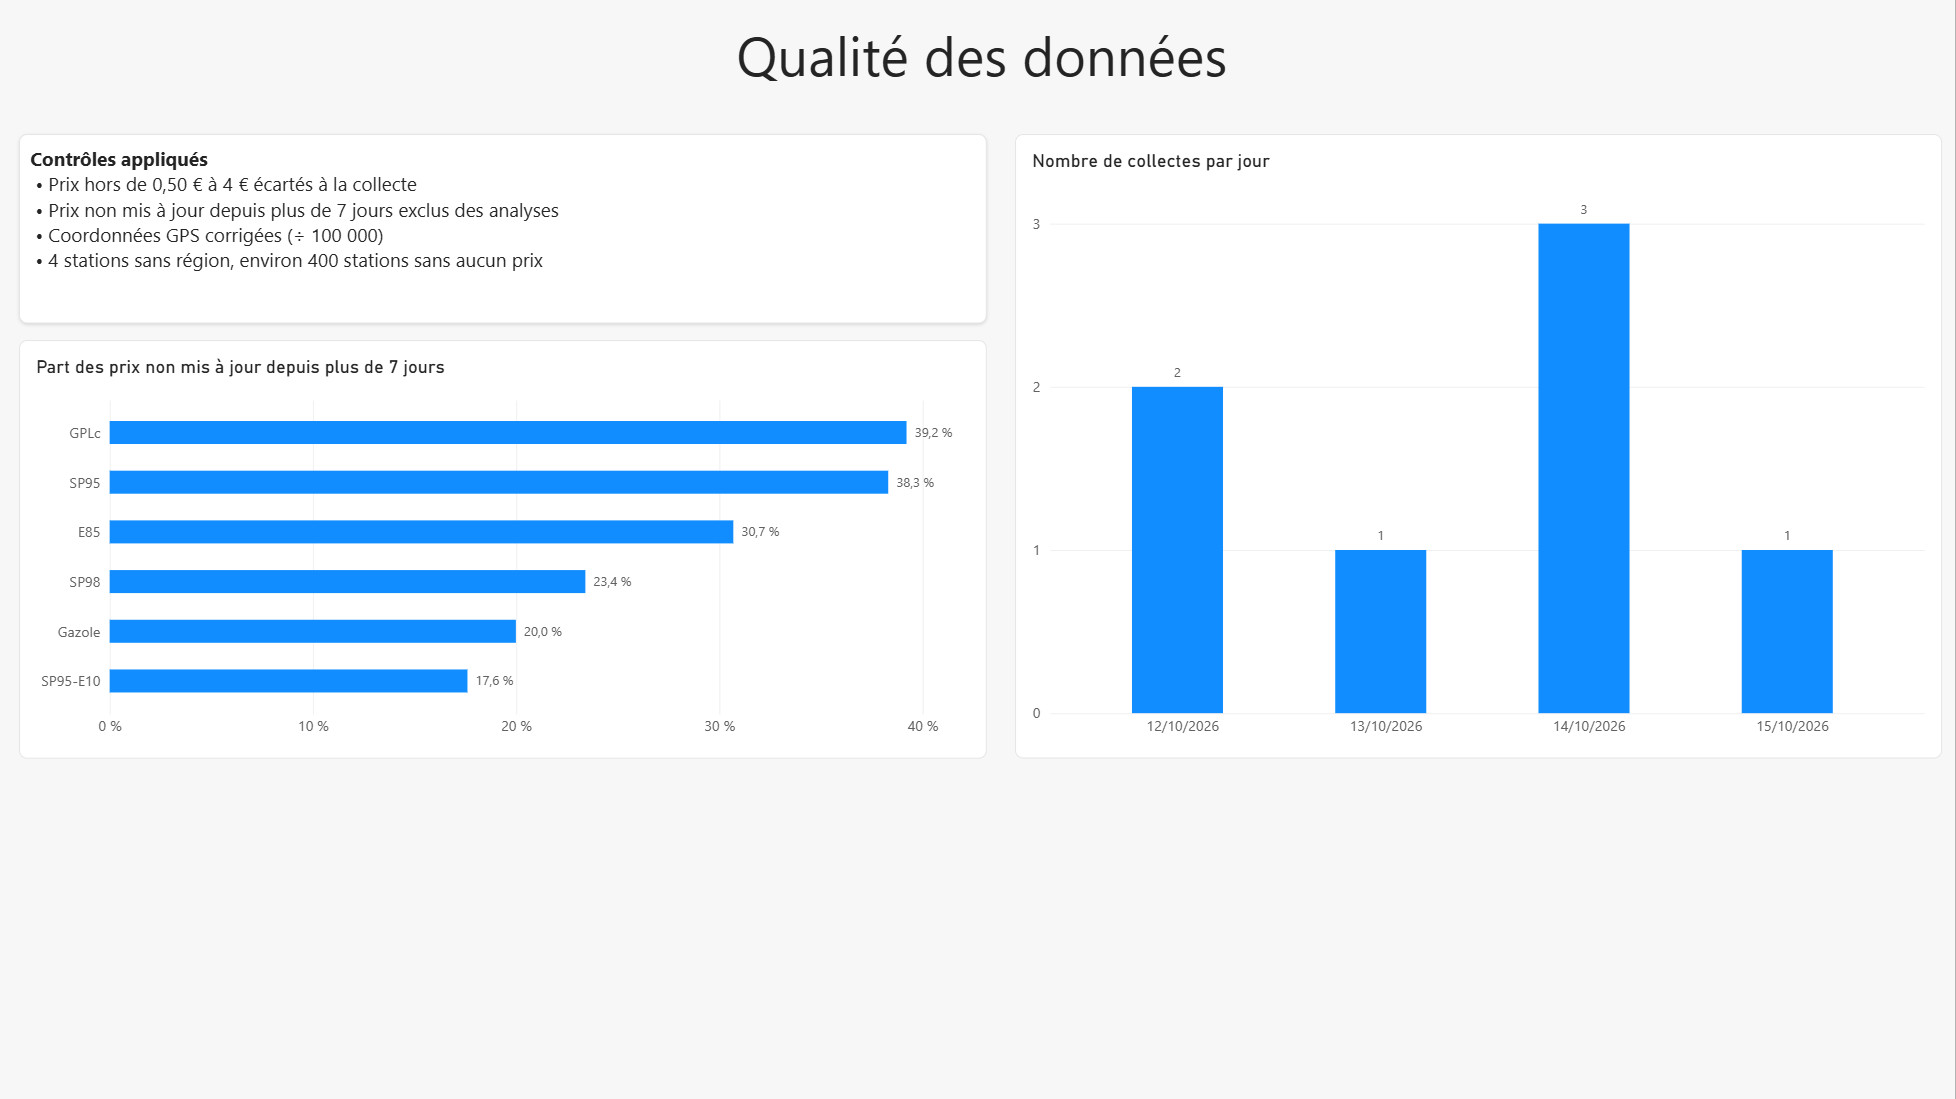

The dashboard page shown, as its layout file describes it:
{"tool":"powerbi","page":{"name":"Qualité des données","canvas":[1920,1080],"ordinal":2},"visuals":[{"type":"clusteredBarChart","title":"Part des prix non mis à jour depuis plus de 7 jours","fields":{"Category":["Prix.Carburant"],"Y":["_Mesures.Part prix périmés actuel"]},"box":[19.6,333.7,950.2,411.3],"z":0},{"type":"clusteredColumnChart","title":"Nombre de collectes par jour ","fields":{"Category":["Calendrier.Date"],"Y":["_Mesures.Nb collectes"]},"box":[997.3,131.5,909.9,613.5],"z":1000},{"type":"textbox","box":[9.8,16.7,1910.2,92.3],"z":2000},{"type":"textbox","box":[19.6,131.5,950.2,185.5],"z":3000}]}

Visuals, with their boxes in screenshot pixels (x1, y1, x2, y2), scaled from the page's 1920x1080 canvas onto the 1956x1099 screenshot:
"Part des prix non mis à jour depuis plus de 7 jours" clusteredBarChart: 20/340/988/758
"Nombre de collectes par jour " clusteredColumnChart: 1016/134/1943/758
textbox: 10/17/1955/111
textbox: 20/134/988/323
